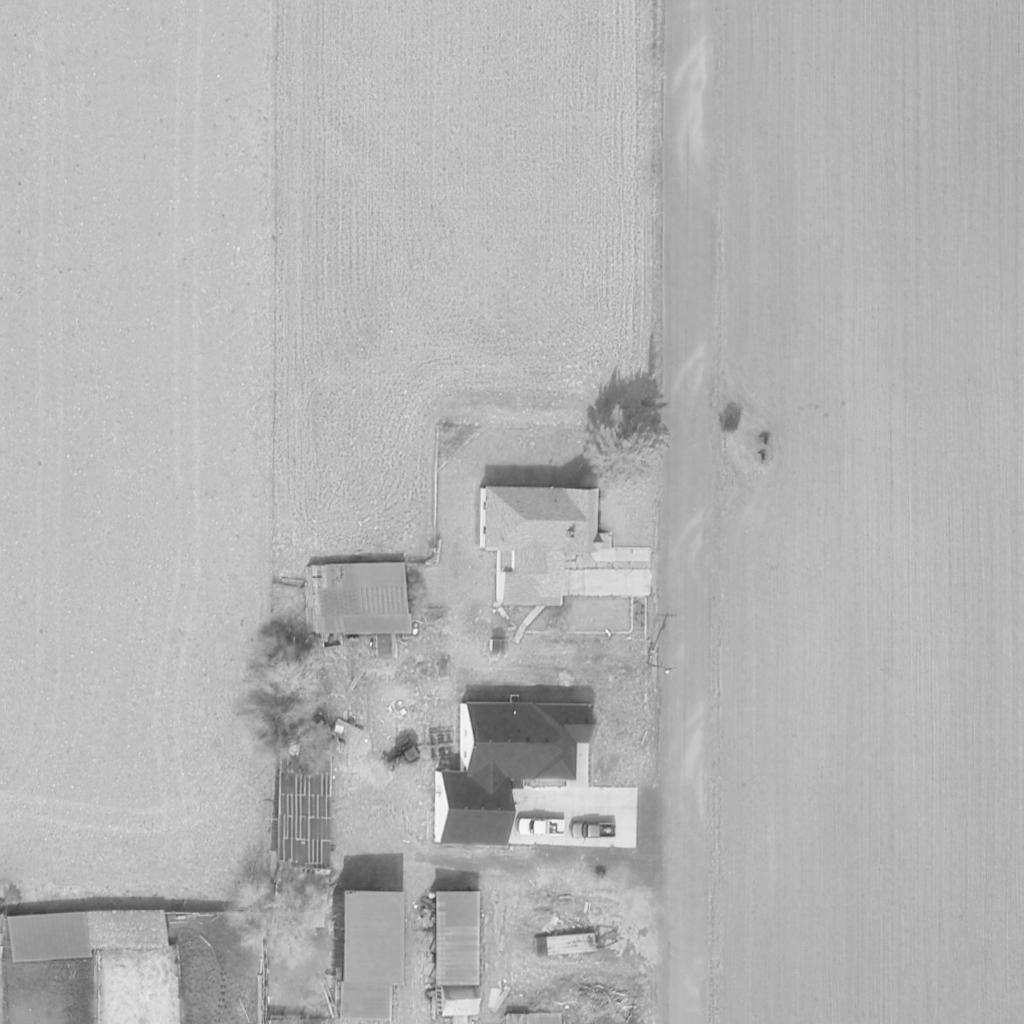vehicle: (377, 735, 425, 779), (516, 818, 566, 836), (571, 823, 619, 839)
